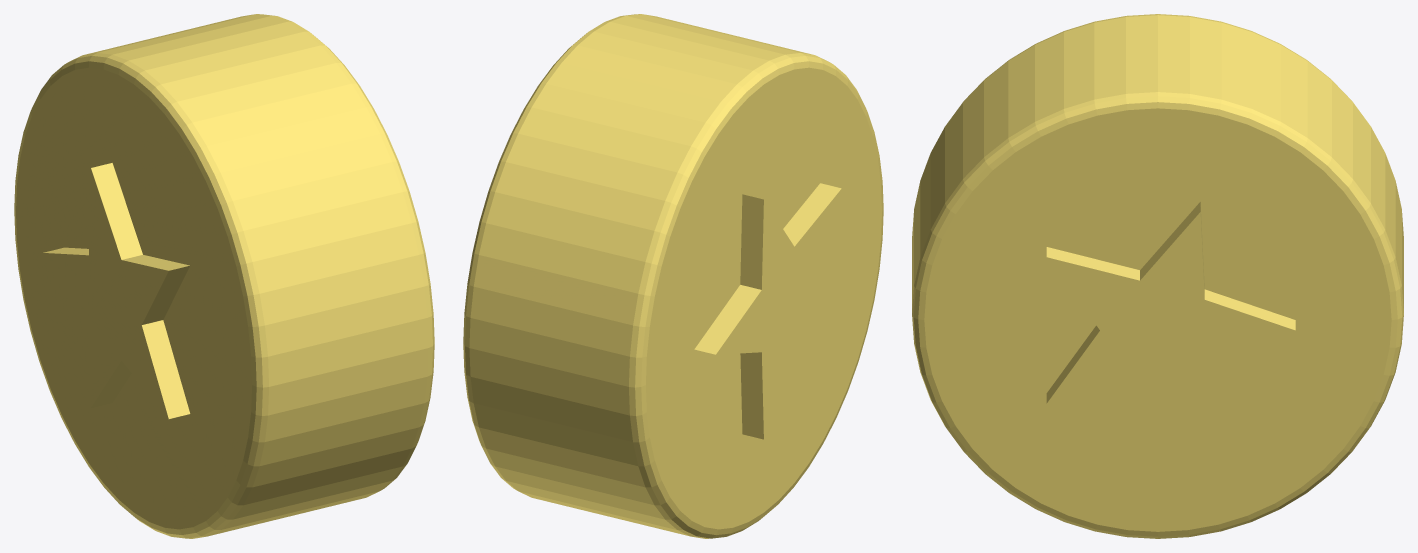
The model's file is Coin_Gold.fbx.
3 views of the same model, side by side, from view 1: azimuth 30°, elevation 25°; view 2: azimuth 150°, elevation 25°; view 3: azimuth 270°, elevation 25° (orthographic).
Parts seen in each view (by area): view 1: Coin_Gold; view 2: Coin_Gold; view 3: Coin_Gold.
Part boxes in pixels (box(x1,y1,x2,y2)): Coin_Gold: box(14, 14, 434, 538); Coin_Gold: box(463, 14, 883, 538); Coin_Gold: box(912, 14, 1403, 538).
Size of the model in its own units: 0.52 by 1 by 1.
